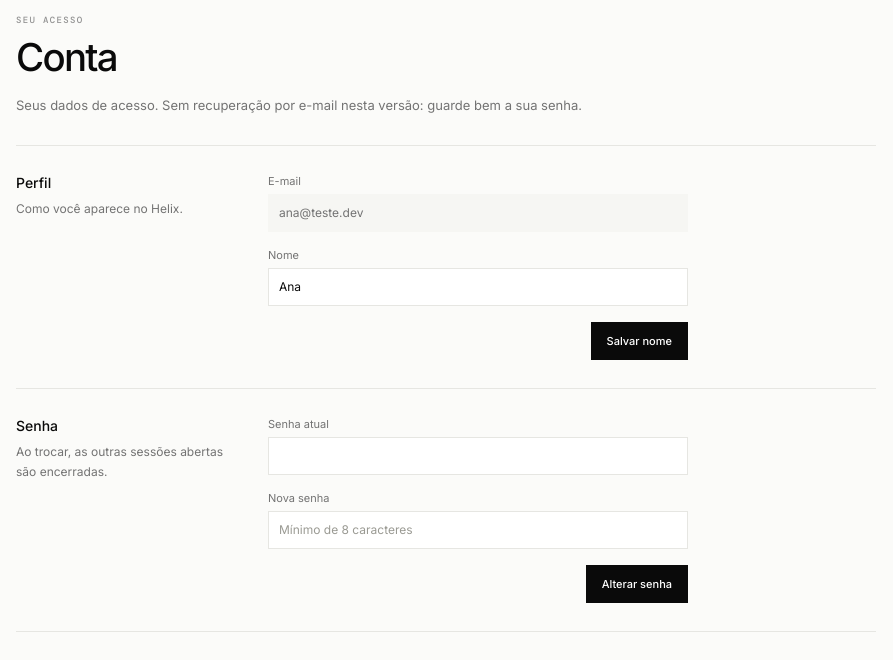
it: AccountView › salva o nome e atualiza a página
Replace the text in the field labelled "Nome" with "Ana Souza" at coordinates (478, 287), box [268,268,688,306]
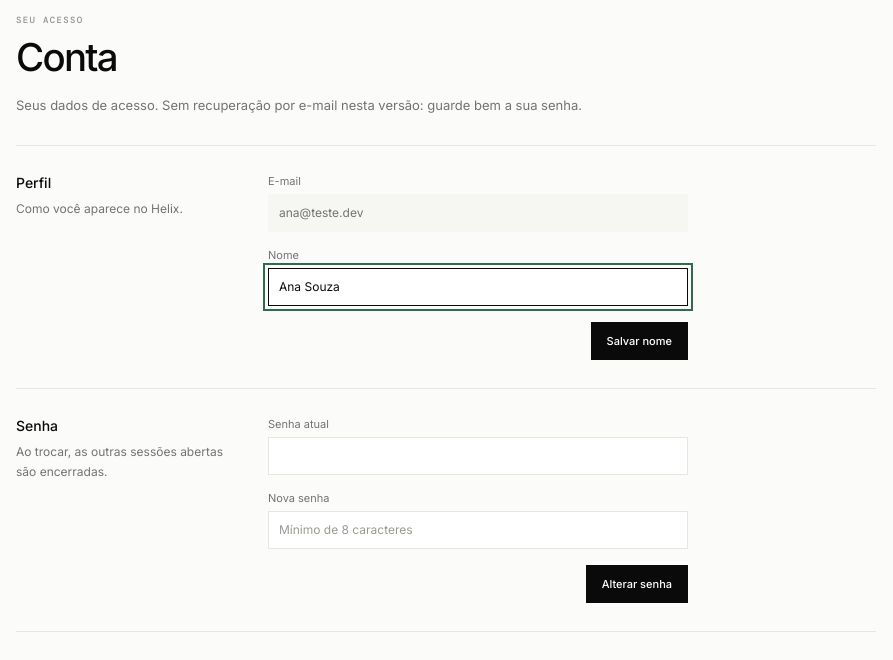
Click the button "Salvar nome" at coordinates (639, 341), box [591,322,688,360]
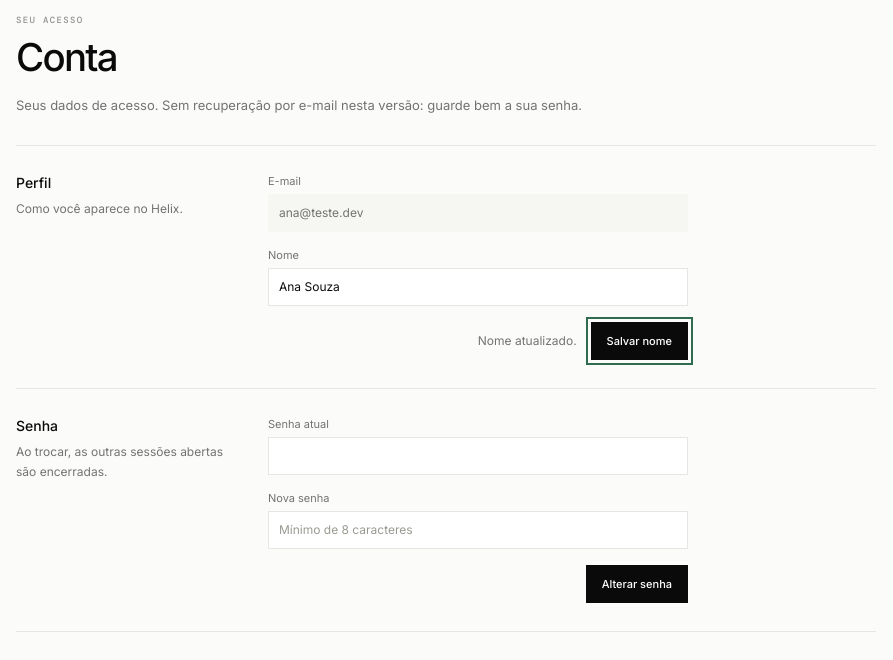
Check: the text "Nome atualizado." is shown, box [478,333,577,348]
